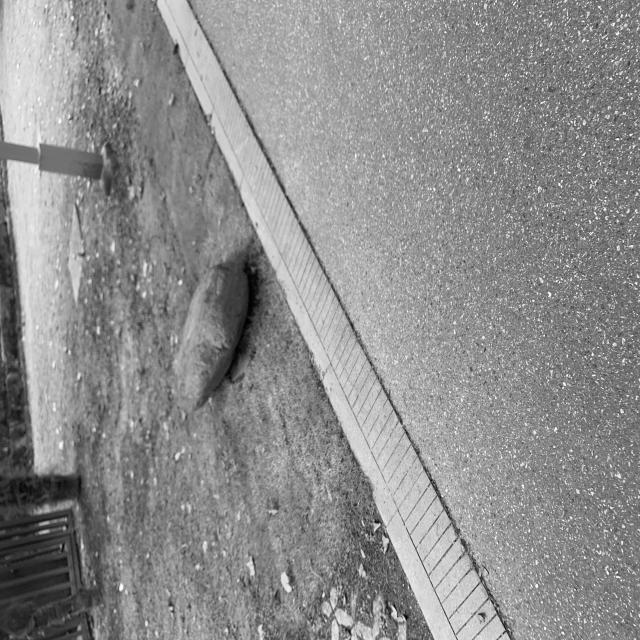Stone: (175, 263, 249, 413)
